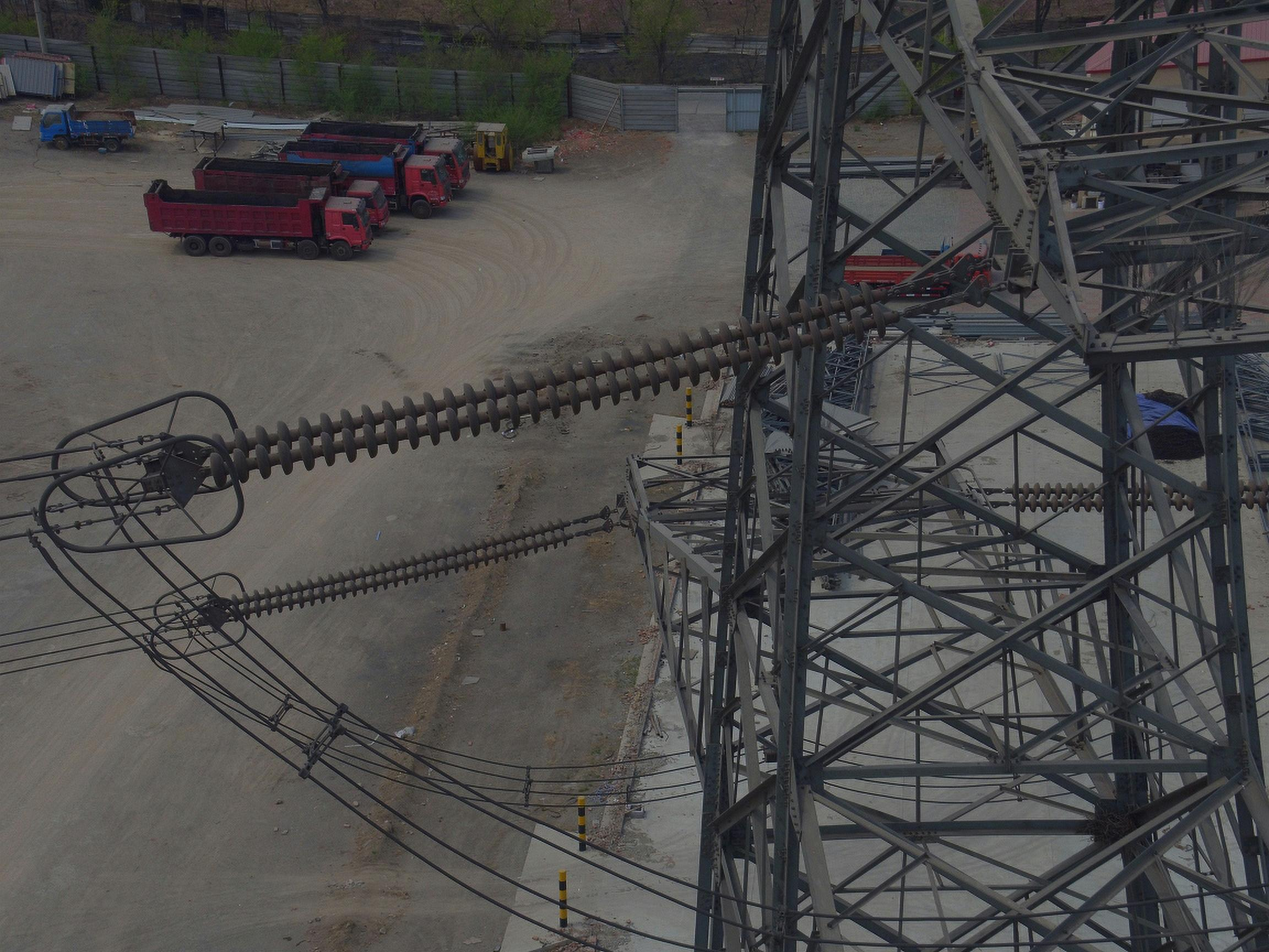insulator: (203, 275, 892, 492), (226, 515, 570, 625), (1009, 480, 1269, 516)
